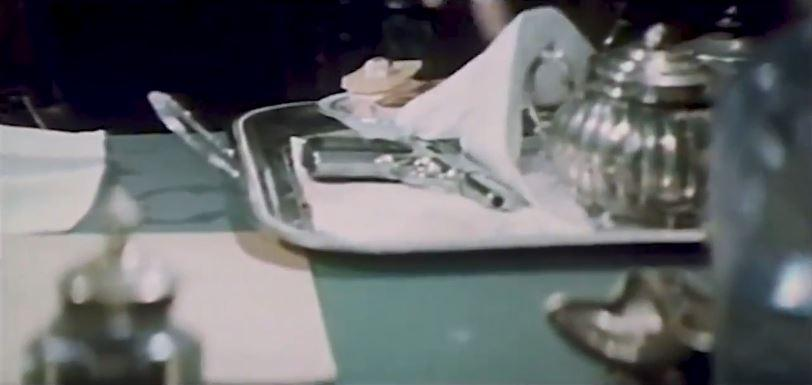gun: (303, 129, 526, 214)
